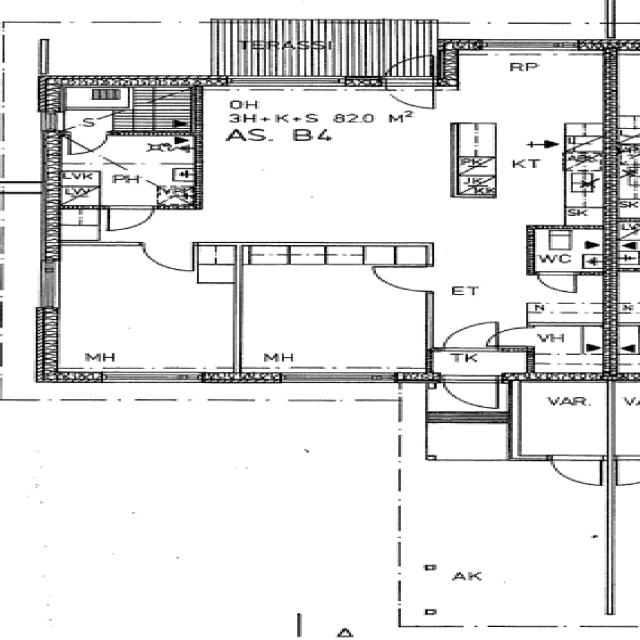door: (379, 54, 437, 112), (435, 317, 513, 352), (364, 262, 442, 293), (441, 374, 504, 412), (548, 453, 609, 487), (140, 242, 198, 274), (100, 204, 158, 234), (531, 269, 587, 297), (488, 322, 536, 348), (66, 130, 110, 157)
window: (275, 367, 400, 386), (220, 74, 362, 90), (95, 368, 204, 387), (31, 258, 68, 310), (477, 38, 586, 55), (455, 623, 492, 632)
zone: (196, 85, 448, 248), (453, 49, 615, 219), (45, 245, 241, 378), (235, 252, 428, 378), (442, 45, 614, 121), (44, 135, 202, 208), (526, 324, 614, 378), (527, 225, 617, 273)
